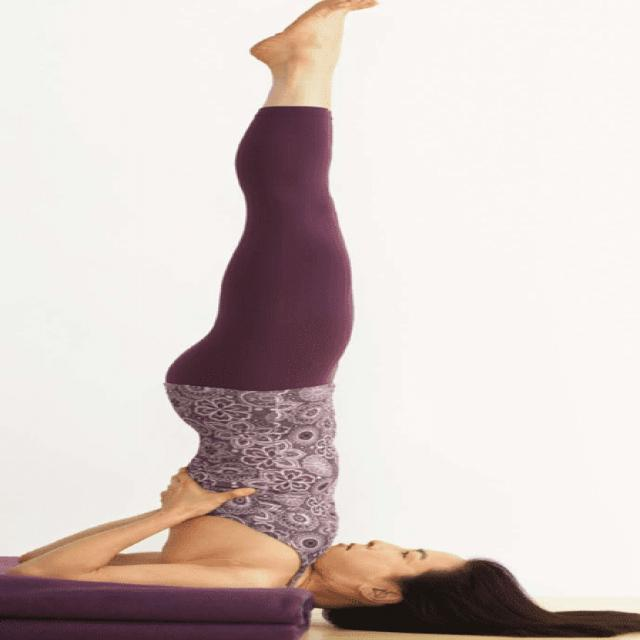yoga-pose shoulderstand: (28, 0, 526, 617)
